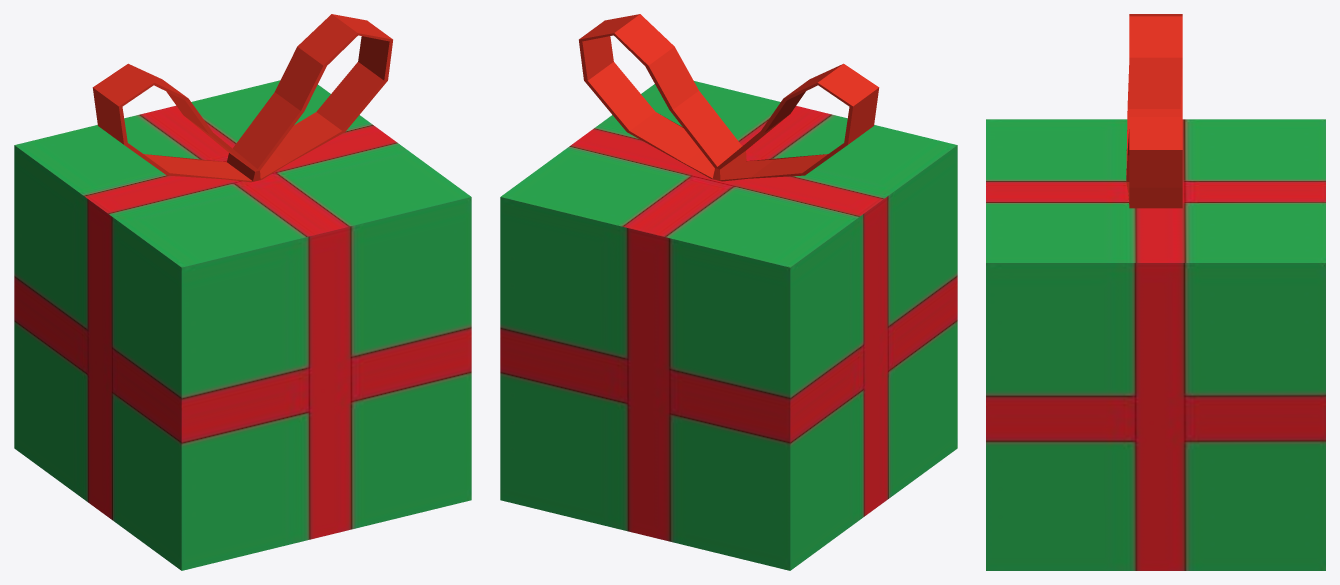
File: regalo.fbx
The picture shows the model from 3 angles, left to right: view 1: azimuth 30°, elevation 25°; view 2: azimuth 150°, elevation 25°; view 3: azimuth 270°, elevation 25°; orthographic projection.
Parts seen in each view (by area): view 1: Regalo; view 2: Regalo; view 3: Regalo.
Boxes of the visible parts, x1=… form: Regalo: x1=14, y1=14, x2=471, y2=570; Regalo: x1=500, y1=14, x2=957, y2=570; Regalo: x1=986, y1=14, x2=1325, y2=570.
Bounding box in the file's own units: 77.65 × 109 × 77.65.
